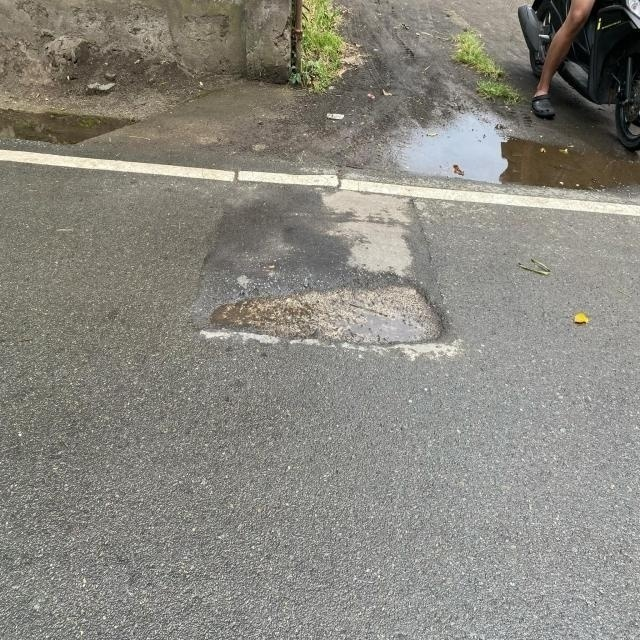pothole: (224, 255, 457, 374)
